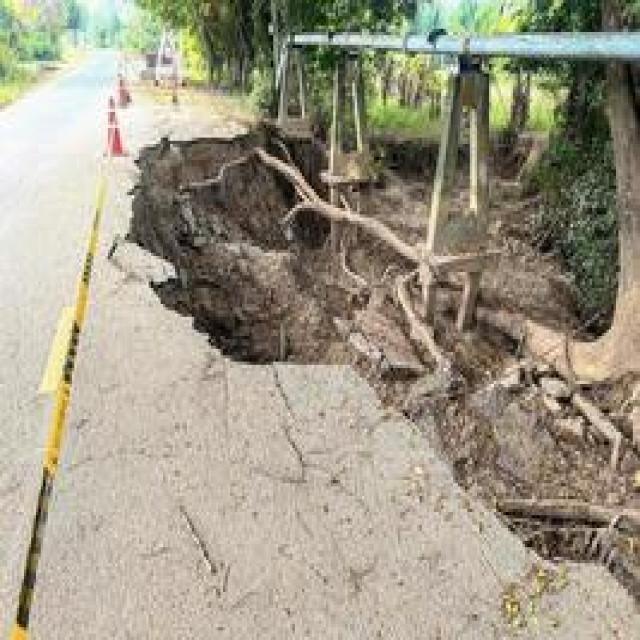road collapse: (110, 0, 640, 640)
